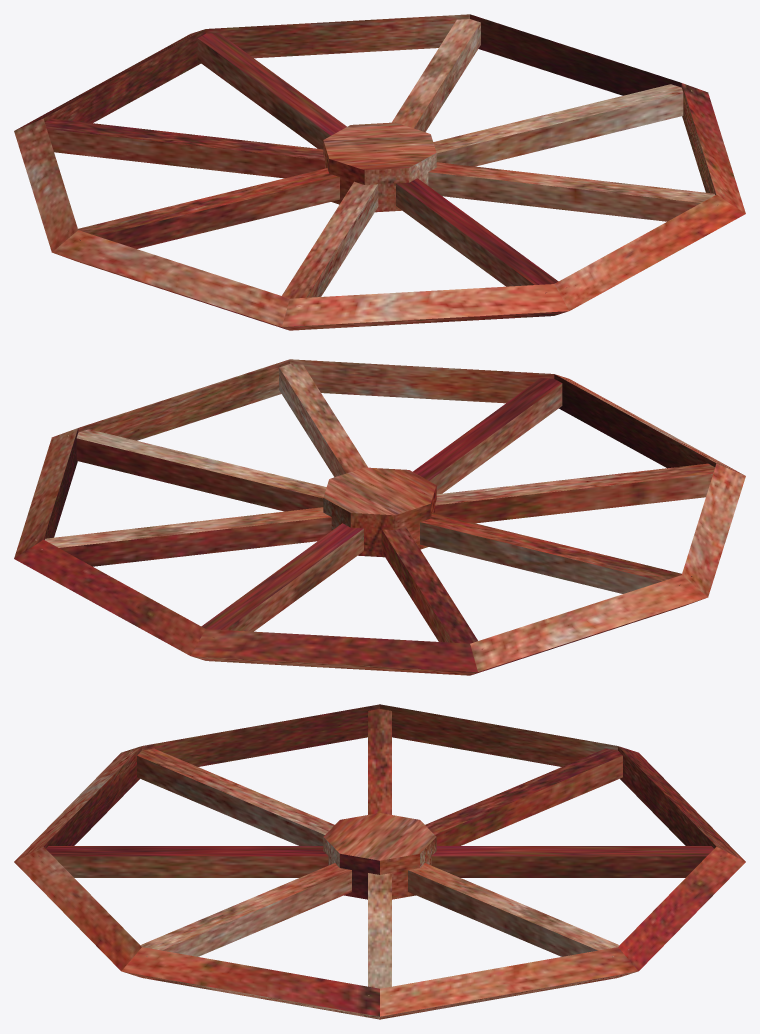
File: valbula (1).fbx
3 views of the same model, one above another, from view 1: azimuth 30°, elevation 25°; view 2: azimuth 150°, elevation 25°; view 3: azimuth 270°, elevation 25° (orthographic). The views are drawn at different scales.
Parts seen in each view (by area): view 1: Valvula; view 2: Valvula; view 3: Valvula.
Part boxes in pixels (x1,y1,x2,y2): Valvula: (14,14,745,330); Valvula: (14,359,745,675); Valvula: (14,704,745,1019).
Size of the model in its own units: 168 by 10.42 by 168.
Materials: 1 (1 with a texture image).
